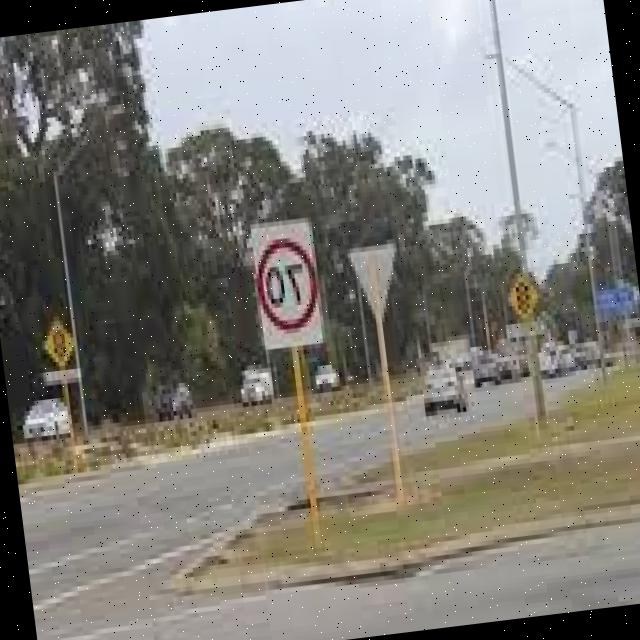speed_limit_70: (250, 231, 320, 338)
